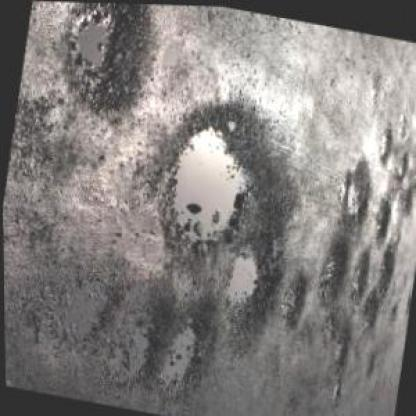pothole: (147, 86, 301, 272), (5, 256, 125, 364), (213, 242, 283, 361), (100, 283, 172, 395), (150, 290, 218, 402), (309, 227, 354, 305), (336, 150, 376, 227), (314, 304, 360, 367), (276, 263, 311, 332), (369, 191, 394, 244), (354, 283, 381, 331), (372, 240, 396, 290), (374, 125, 394, 162), (399, 184, 415, 211), (397, 147, 409, 175), (410, 157, 414, 184)
